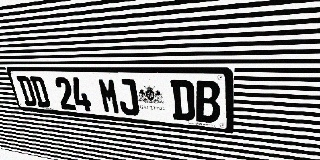2: (54, 77, 76, 110)
4: (69, 77, 92, 112)
B: (195, 80, 220, 124)
D: (170, 80, 195, 121), (29, 76, 51, 108), (16, 76, 38, 107)
J: (116, 78, 140, 116)
M: (97, 78, 121, 114)
